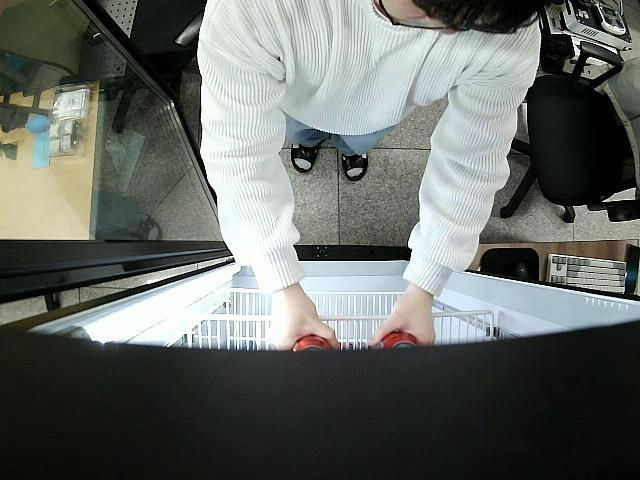11_cocaColaZero: (373, 329, 424, 352), (288, 332, 334, 355)
